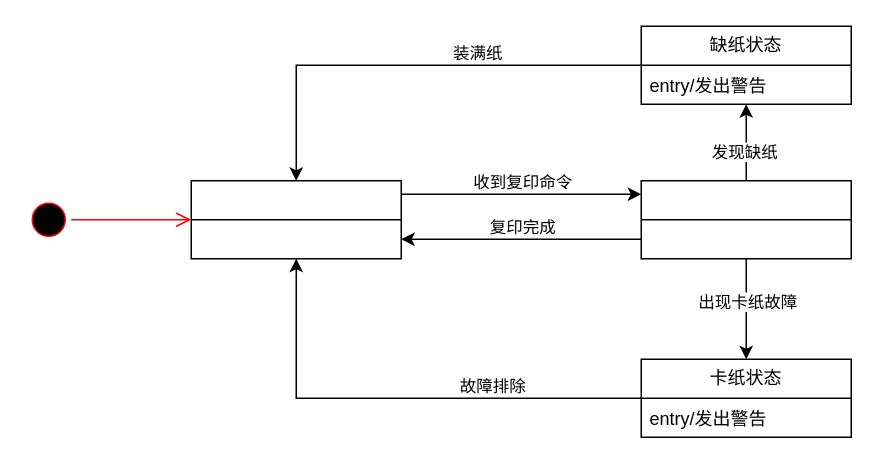
This 878x468 diagram has some shape labels left out. Here are the shapes that lost their labels. From the top down, the centre of each, then its label:
(295,219): 闲置状态
(745,219): 复印状态
